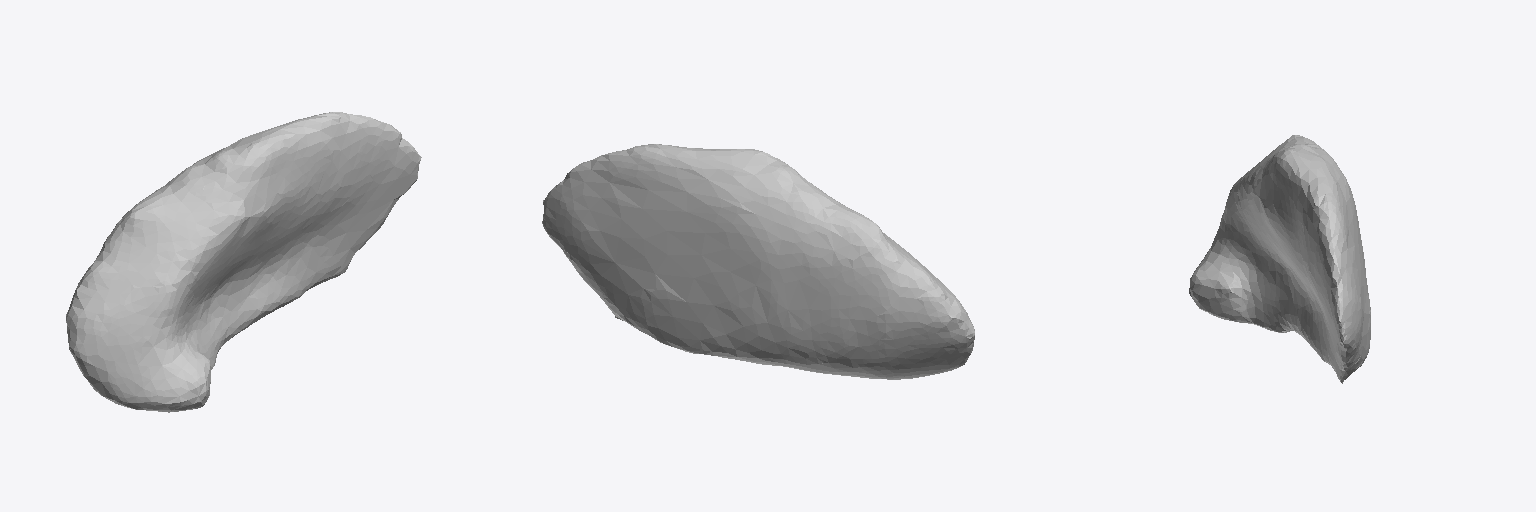
Rendered from R-Putamen-FixedCenter.obj.
3 renders of one model, left to right at view 1: azimuth 30°, elevation 25°; view 2: azimuth 150°, elevation 25°; view 3: azimuth 270°, elevation 25°, orthographic.
Parts seen in each view (by area): view 1: R-putamen_putamen.001; view 2: R-putamen_putamen.001; view 3: R-putamen_putamen.001.
Boxes of the visible parts, <box> form: R-putamen_putamen.001: <box>66,112,421,412</box>; R-putamen_putamen.001: <box>542,144,974,379</box>; R-putamen_putamen.001: <box>1189,135,1370,383</box>.
Size of the model in its own units: 64.65 by 33.99 by 26.07.